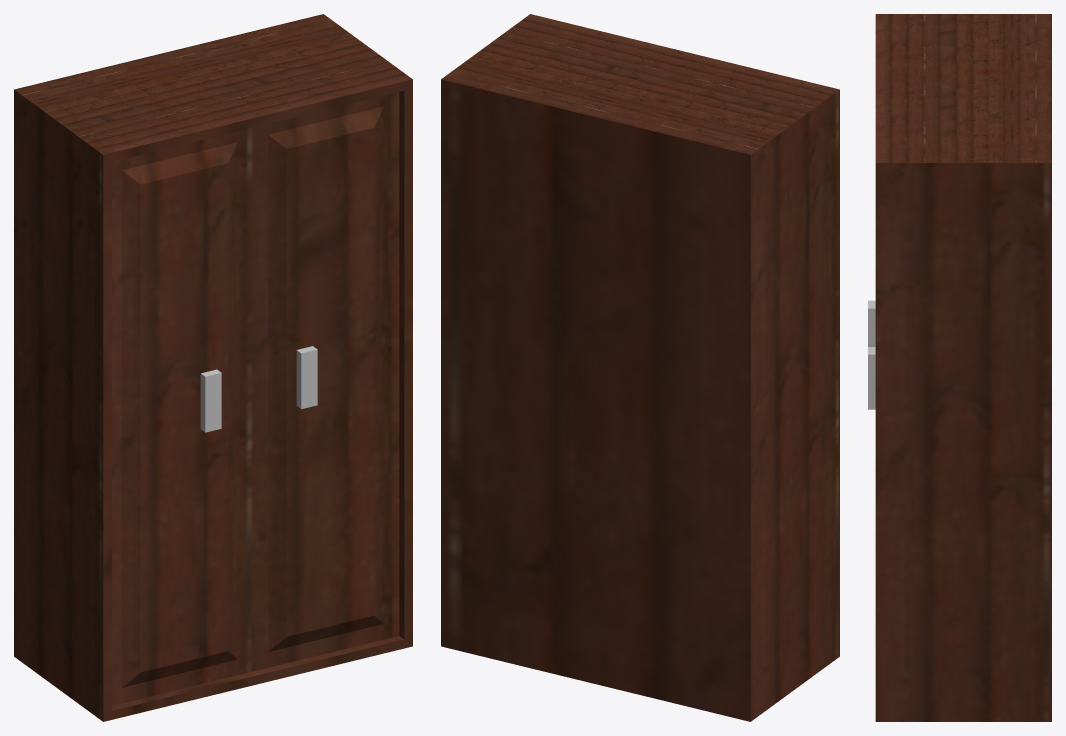
Rendered from closet.fbx.
The picture shows the model from 3 angles, left to right: view 1: azimuth 30°, elevation 25°; view 2: azimuth 150°, elevation 25°; view 3: azimuth 270°, elevation 25°; orthographic projection.
Parts seen in each view (by area): view 1: Cube.021, Cube.023, Cube.022; view 2: Cube.021; view 3: Cube.021, Cube.022, Cube.023.
Boxes of the visible parts, x1,y1,x2,y2 form: Cube.021: [14, 14, 412, 721]; Cube.023: [200, 369, 221, 432]; Cube.022: [296, 346, 317, 409]; Cube.021: [441, 14, 839, 721]; Cube.021: [875, 14, 1051, 721]; Cube.022: [868, 347, 875, 409]; Cube.023: [868, 300, 875, 346].
Size of the model in its own units: 200 by 350 by 104.
